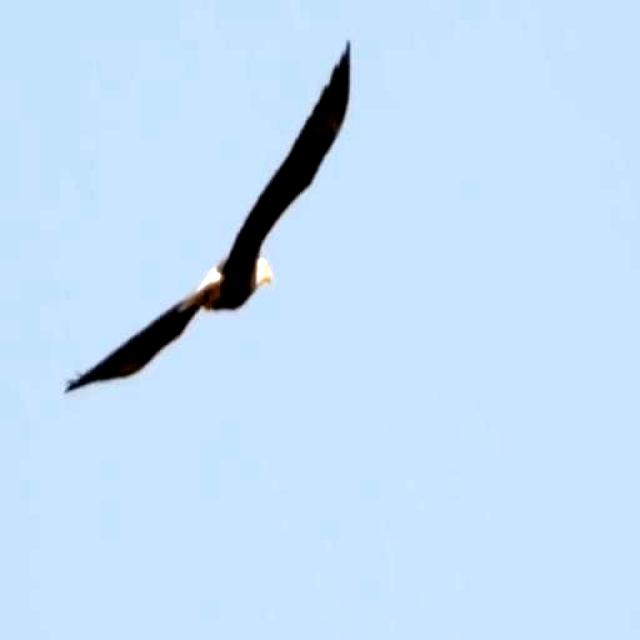airplane: (59, 25, 359, 414)
